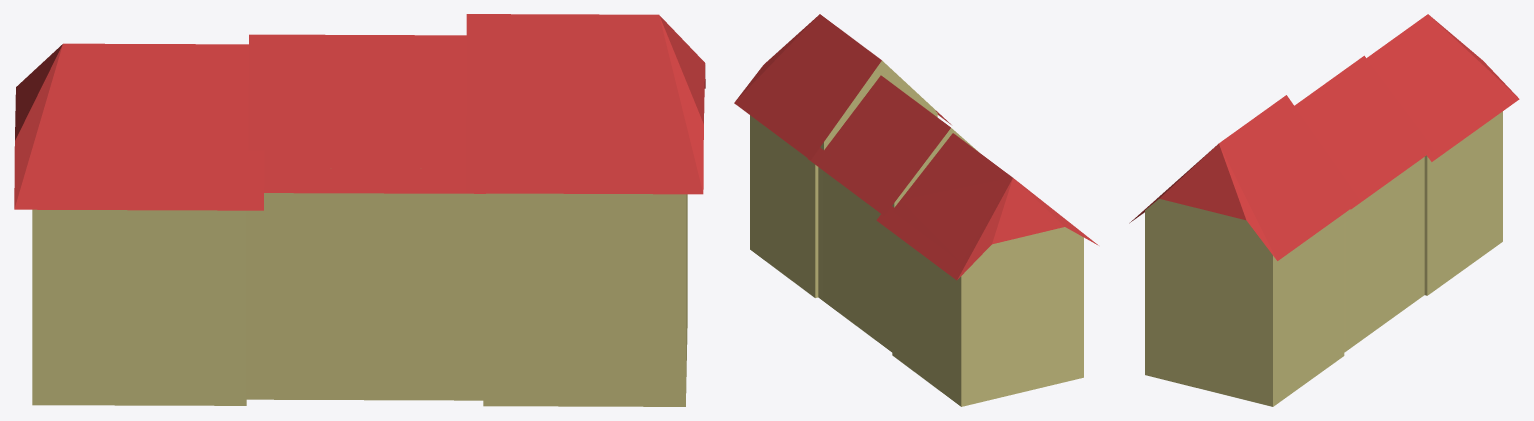
3 renders of one model, left to right at view 1: azimuth 30°, elevation 25°; view 2: azimuth 150°, elevation 25°; view 3: azimuth 270°, elevation 25°, orthographic. The views are drawn at different scales.
Visible parts, largest first — view 1: group_9, group_5, group_13, group_3, group_7, group_11, group_8, group_12, group_4; view 2: group_5, group_3, group_9, group_11, group_7, group_13, group_8, group_4, group_12; view 3: group_9, group_7, group_5, group_3, group_11, group_13, group_8, group_4.
Boxes of the visible parts, x1,y1,x2,y2 form: group_9: [466, 193, 687, 406]; group_5: [32, 193, 264, 405]; group_13: [264, 193, 465, 400]; group_3: [14, 43, 264, 210]; group_7: [465, 14, 705, 194]; group_11: [248, 34, 485, 193]; group_8: [466, 44, 705, 194]; group_12: [264, 168, 483, 193]; group_4: [14, 72, 264, 210]; group_5: [889, 227, 1083, 406]; group_3: [876, 133, 1097, 280]; group_9: [750, 60, 937, 301]; group_11: [807, 75, 950, 215]; group_7: [734, 14, 950, 159]; group_13: [824, 128, 978, 349]; group_8: [734, 46, 950, 160]; group_4: [878, 210, 1094, 279]; group_12: [811, 149, 882, 214]; group_9: [1145, 199, 1347, 406]; group_7: [1130, 95, 1360, 260]; group_5: [1418, 111, 1502, 299]; group_3: [1366, 14, 1519, 161]; group_11: [1294, 55, 1434, 209]; group_13: [1347, 161, 1418, 350]; group_8: [1131, 177, 1360, 260]; group_4: [1430, 50, 1514, 161].
Size of the model in its own units: 30.46 by 23.83 by 16.16.
